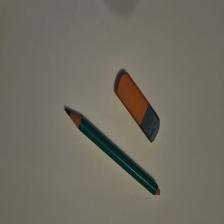eraser: (116, 74, 161, 145)
pencil: (65, 110, 161, 198)
